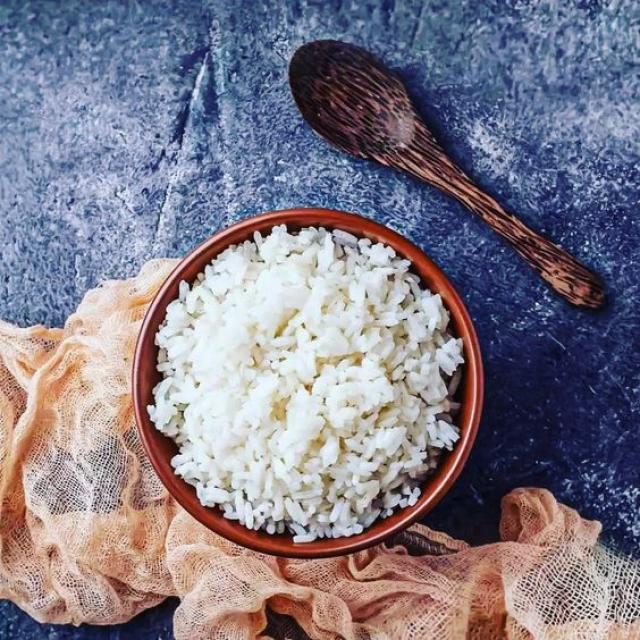nasi_putih: (140, 230, 474, 544)
